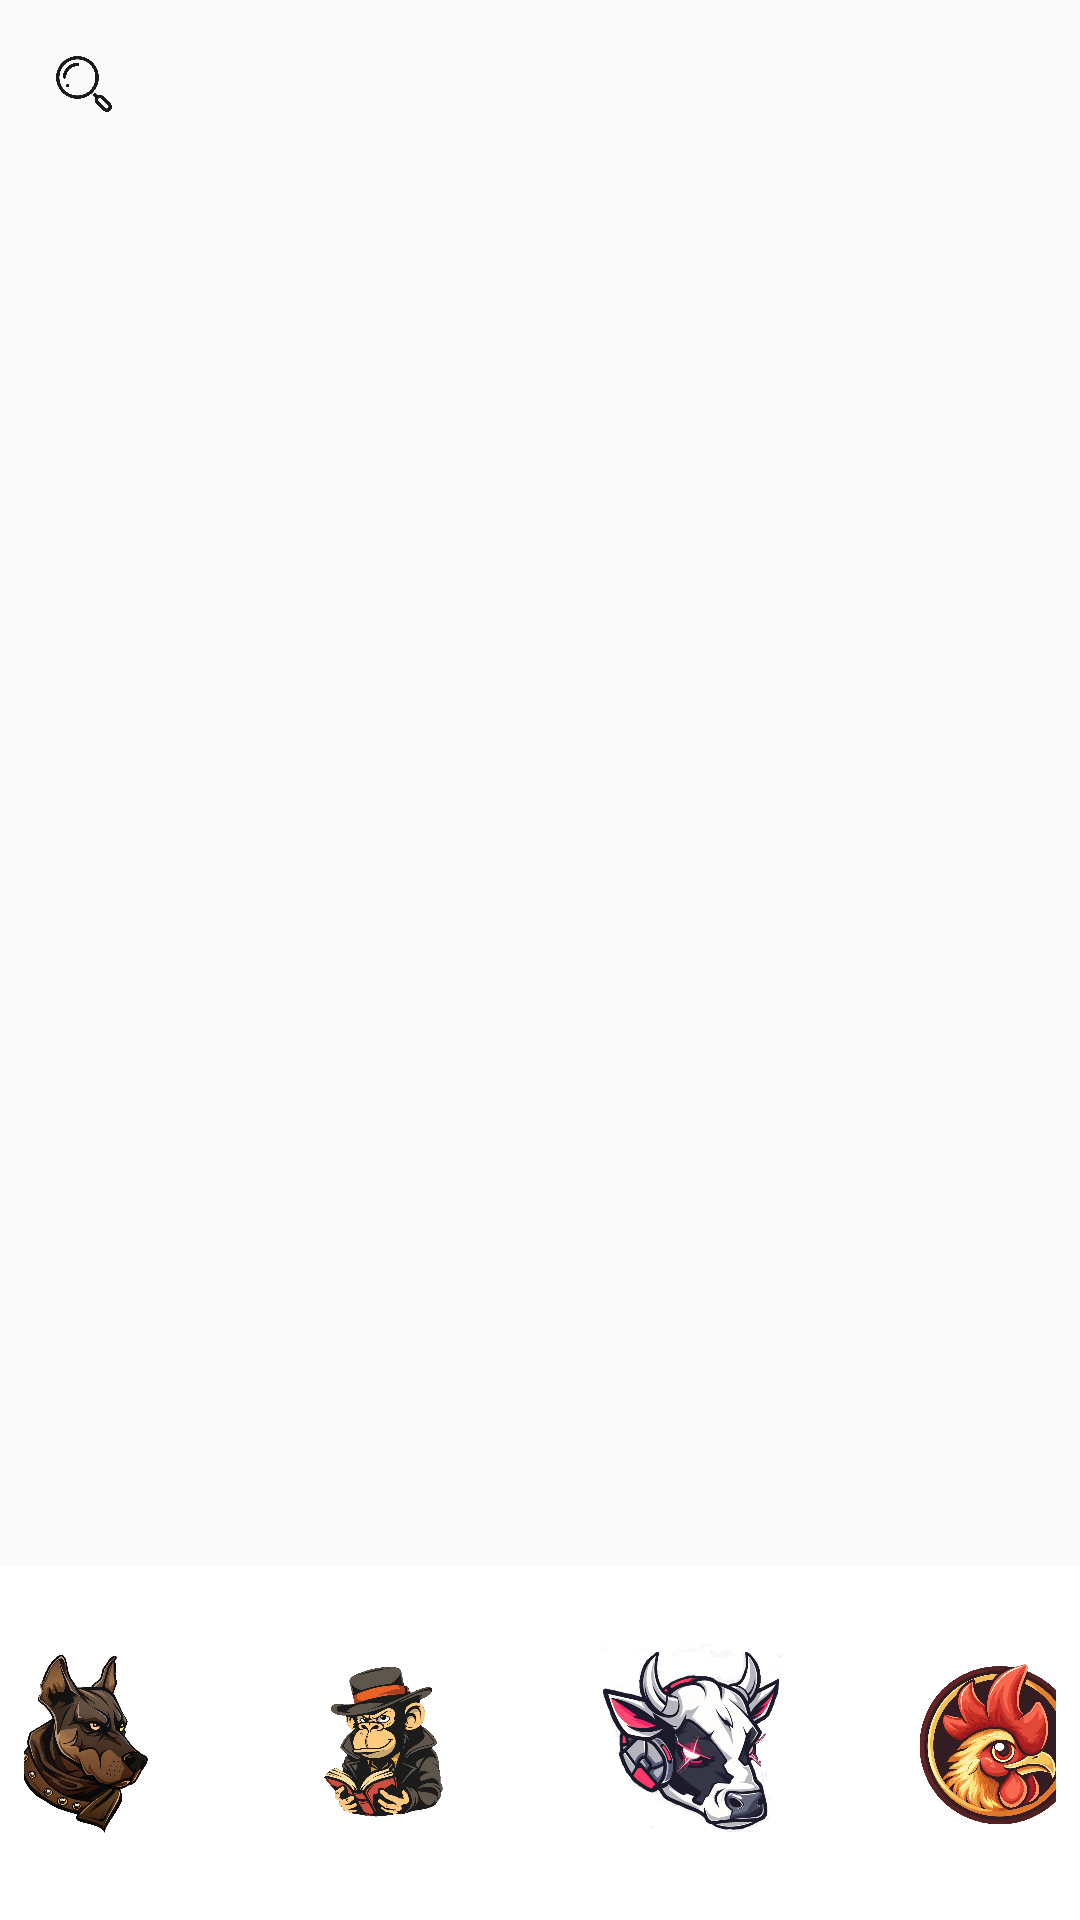

Screen size 1080px x 1920px. Icon name, then its center in pixels as point (x, y):
search: point (84, 84)
